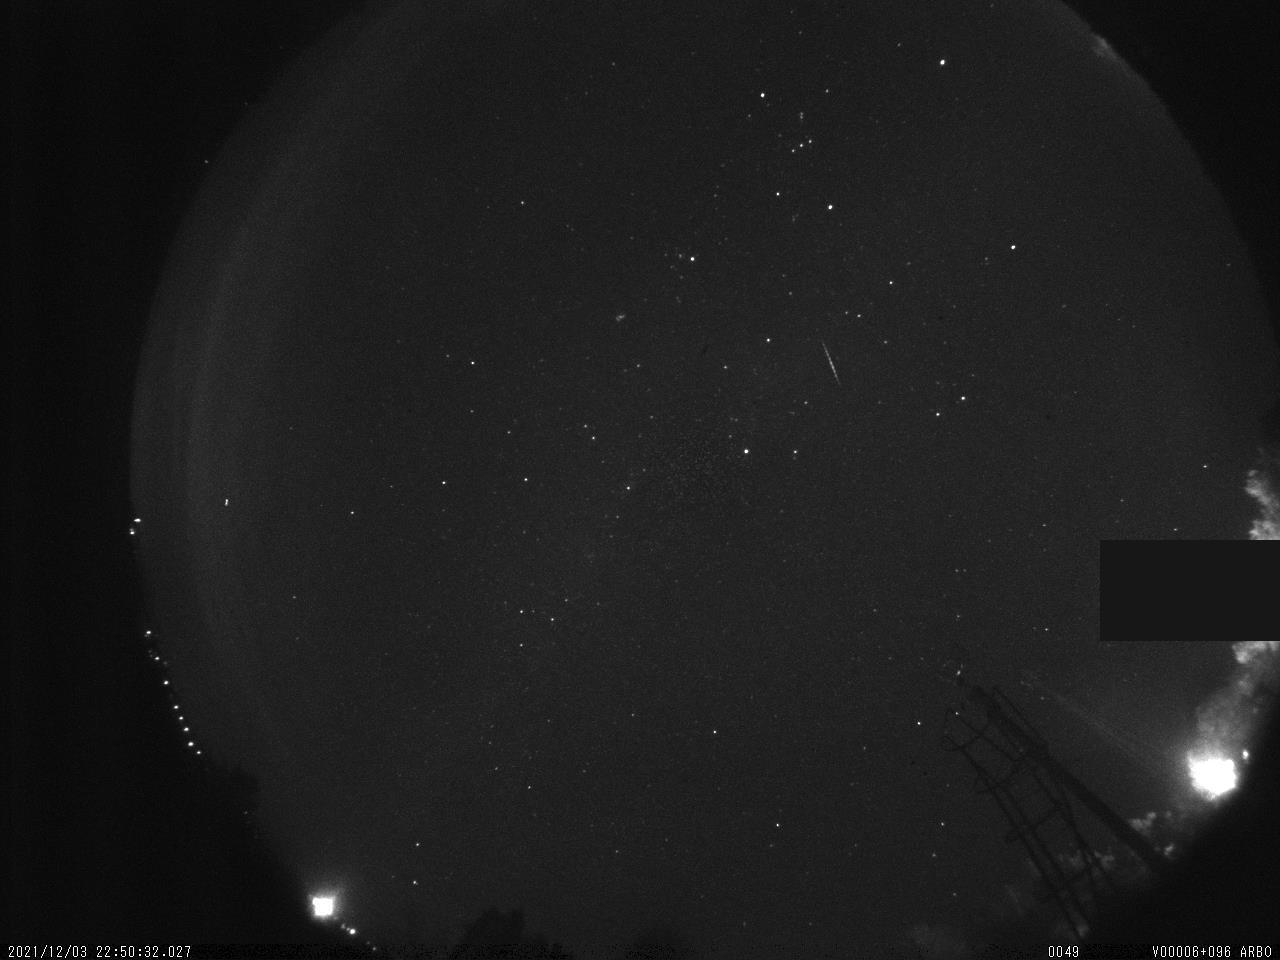meteor: (805, 320, 858, 412)
